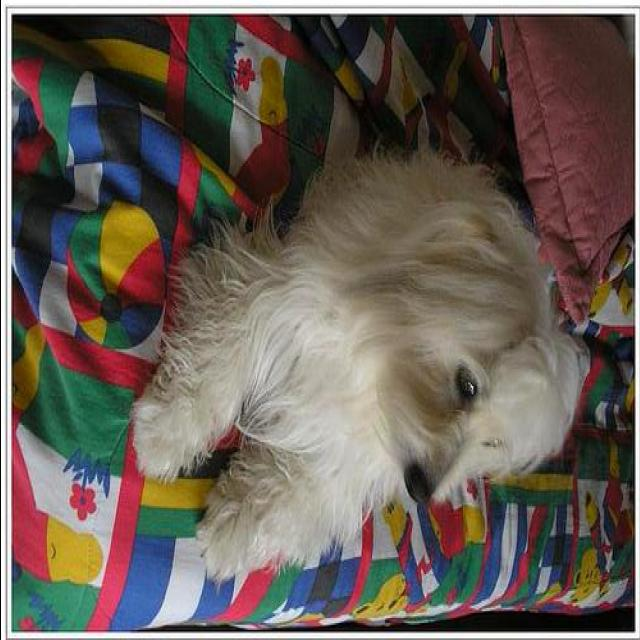maltese_dog: (131, 154, 581, 586)
